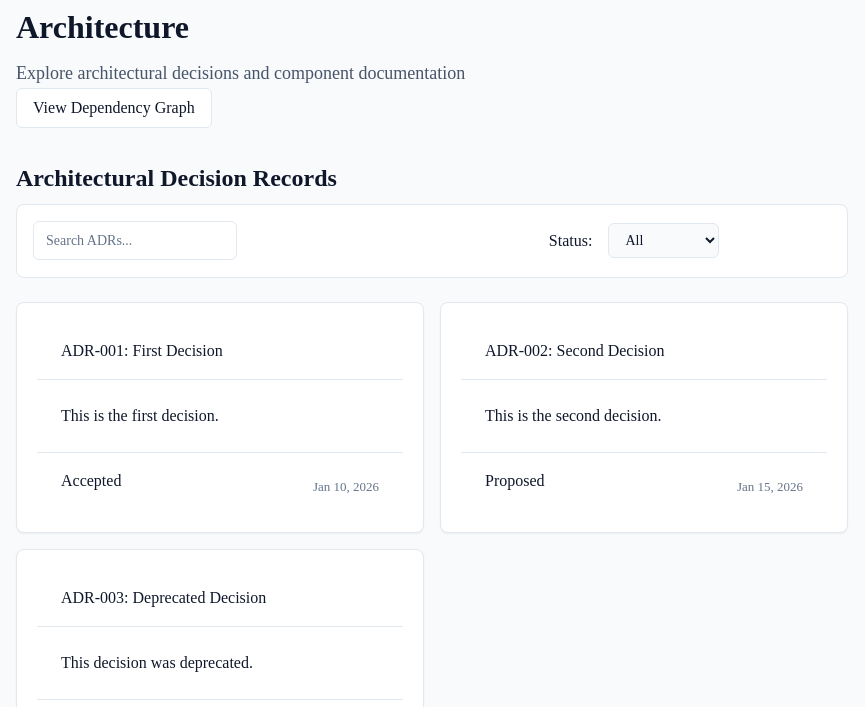
ArchitectureContainer › should filter ADRs by status
This screenshot has width=865, height=707.
Check: the heading "ADR-001: First Decision" is shown, box [61,339,223,363]
Select "Proposed" in the dropdown named "Filter by status" at (664, 241), box [608,223,719,258]
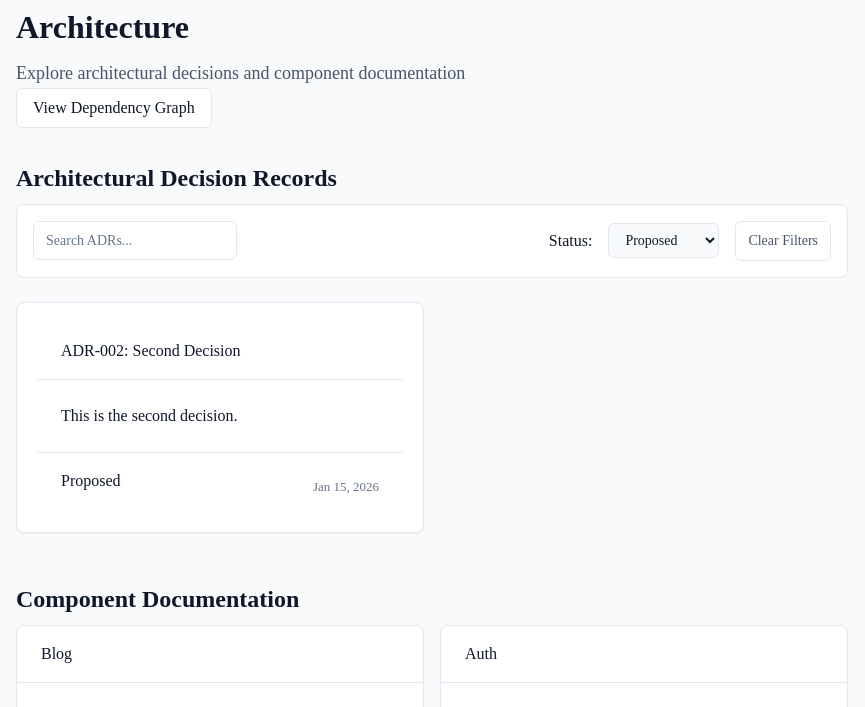
Check: the heading "ADR-002: Second Decision" is shown, box [61,339,240,363]
Check: the link "ADR-001: First Decision" is gone
Check: the link "ADR-003: Deprecated Decision" is gone
